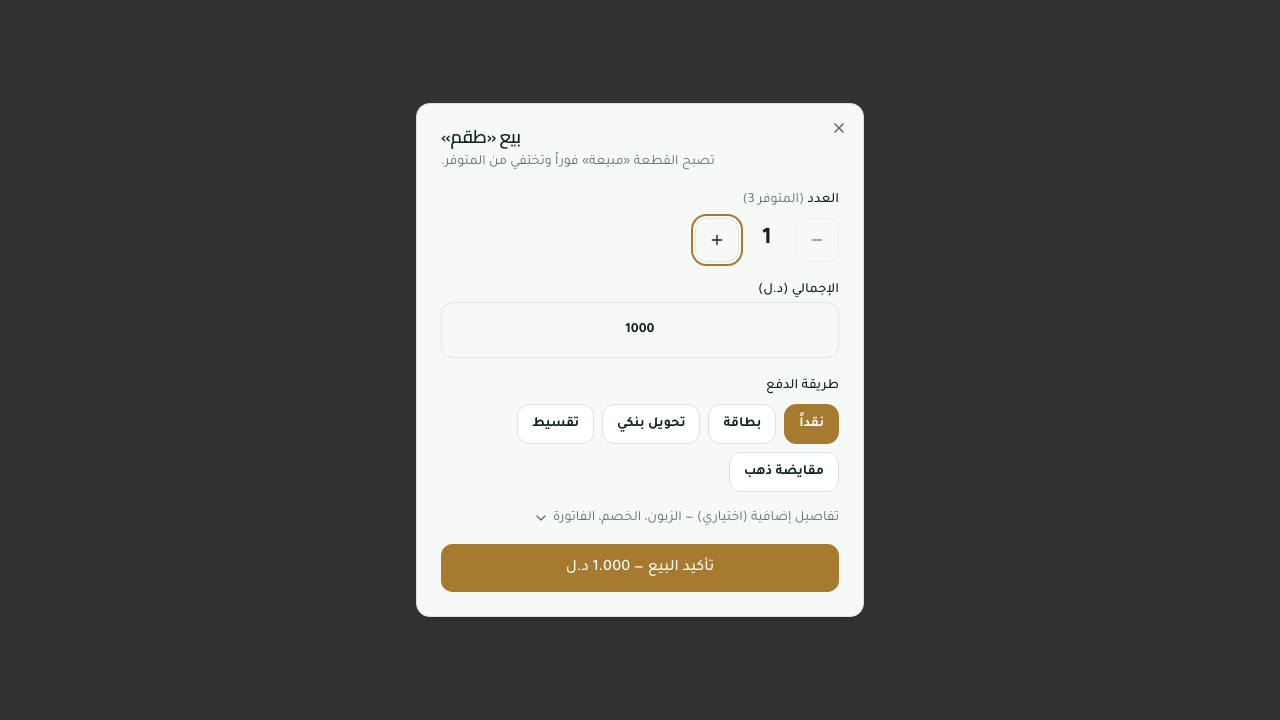
Test: SellDialog › sells several of a multi-quantity piece at count × price
Later steps or results of the test are not shown.
Expected: the field labelled "الإجمالي (د.ل)" holds "1000", [441, 302, 839, 358]
What coordinates should you click on to do the following:
click the button named "أكثر"
I would click on:
 (717, 240)
Its box is [695, 218, 739, 262].
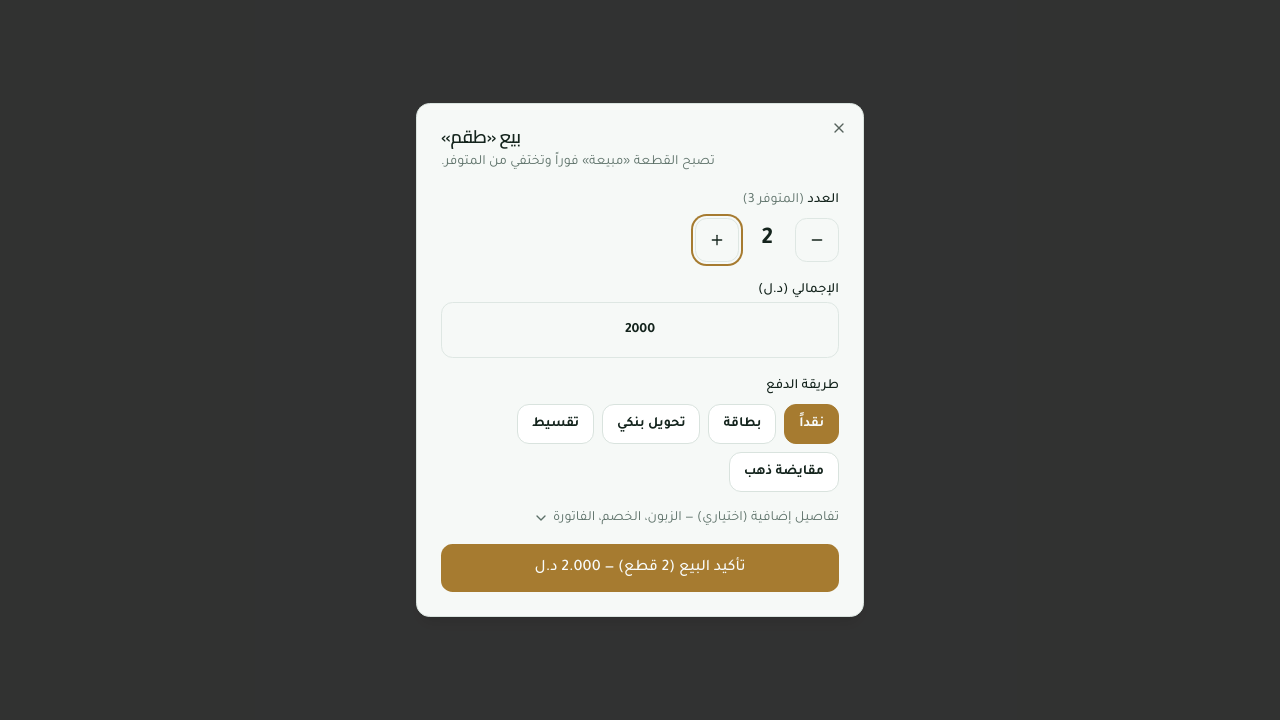
Now the field labelled "الإجمالي (د.ل)" holds "2000", box [441, 302, 839, 358]
What coordinates should you click on to do the following:
click the button named "أكثر"
I would click on:
 (717, 240)
Its box is [695, 218, 739, 262].
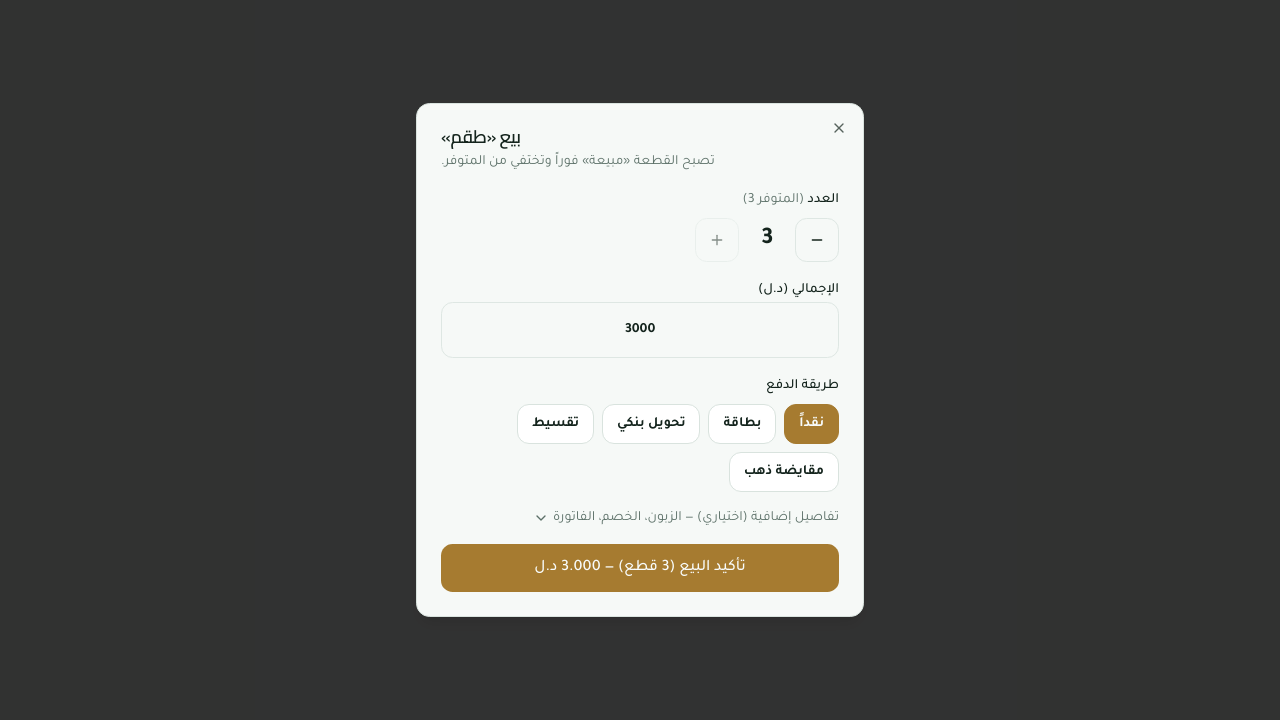
Now the button named "أكثر" is disabled, box [695, 218, 739, 262]
